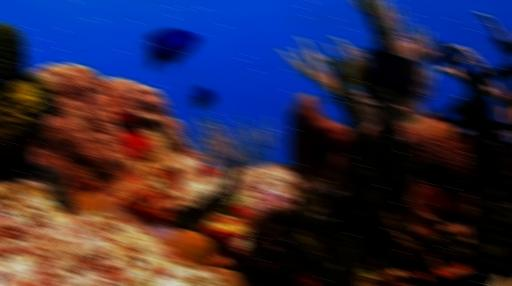Fish: (346, 47, 421, 103), (147, 28, 198, 69), (189, 85, 214, 111)
